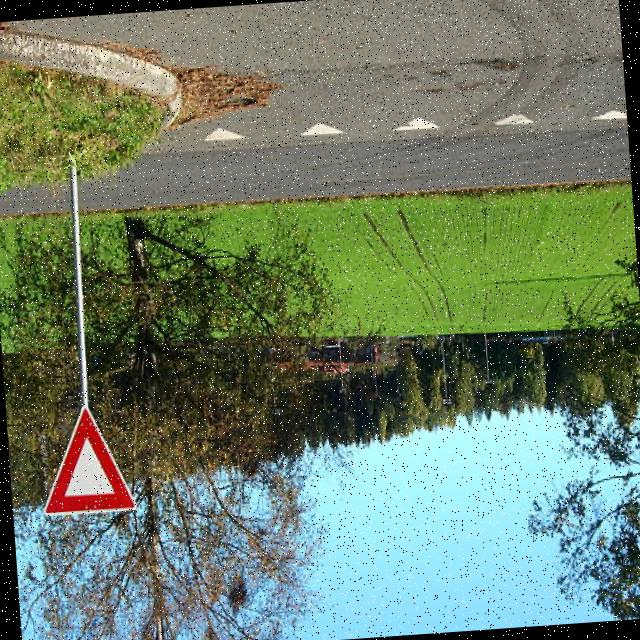give_way: (26, 394, 152, 535)
